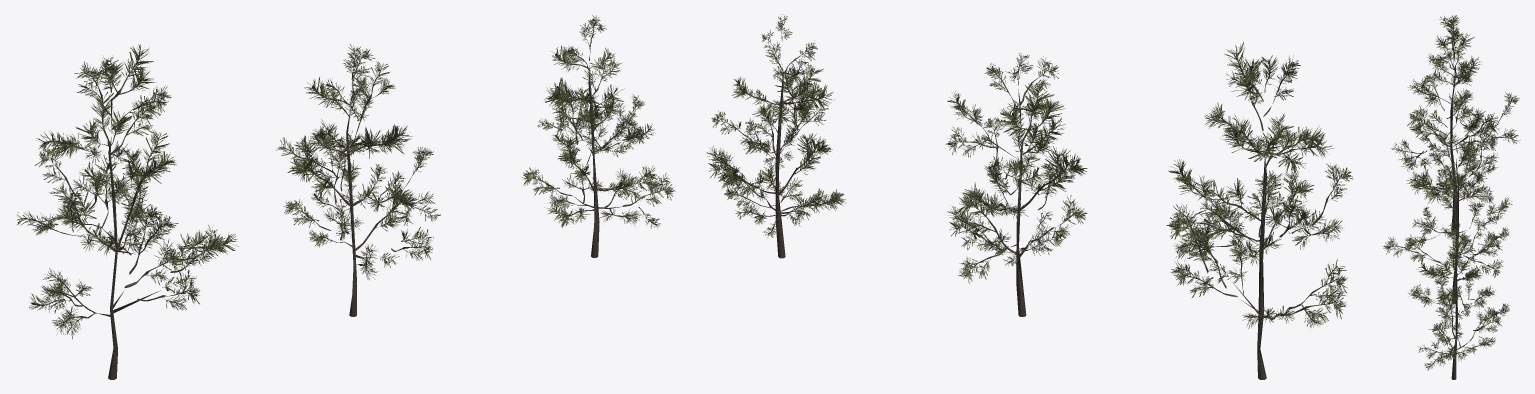
The model's file is pines.glb.
The picture shows the model from 3 angles, left to right: view 1: azimuth 30°, elevation 25°; view 2: azimuth 150°, elevation 25°; view 3: azimuth 270°, elevation 25°; orthographic projection. The views are drawn at different scales.
Visible parts, largest first — view 1: pine_sapling_small_a, pine_sapling_small_b, pine_sapling_small_c; view 2: pine_sapling_small_a, pine_sapling_small_b, pine_sapling_small_c; view 3: pine_sapling_small_a, pine_sapling_small_b, pine_sapling_small_c.
Part boxes in pixels (x1,y1,x2,y2): pine_sapling_small_a: [16, 44, 238, 379]; pine_sapling_small_b: [276, 44, 440, 316]; pine_sapling_small_c: [522, 15, 675, 257]; pine_sapling_small_a: [1166, 42, 1353, 379]; pine_sapling_small_b: [945, 52, 1087, 316]; pine_sapling_small_c: [707, 14, 845, 258]; pine_sapling_small_a: [1390, 15, 1520, 231]; pine_sapling_small_b: [1383, 133, 1512, 304]; pine_sapling_small_c: [1408, 222, 1509, 379].
Bounding box in the file's own units: 2.64 × 1.3 × 0.7703.
Materials: 2 (2 with a texture image).
